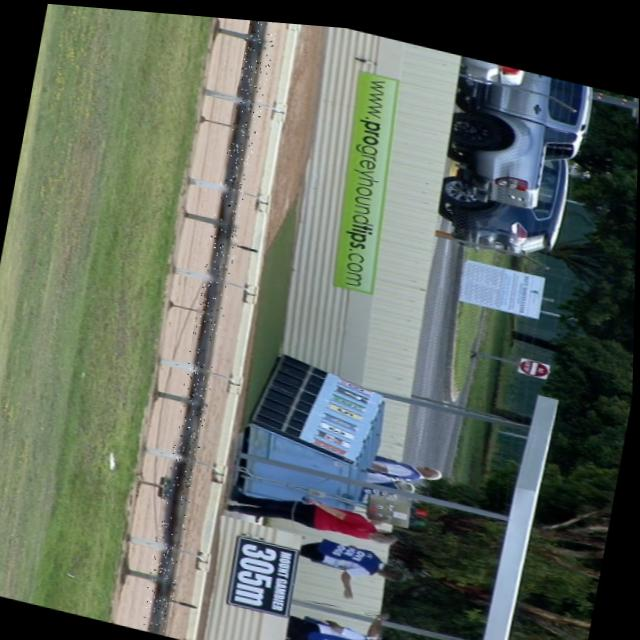rail: (150, 16, 264, 633)
